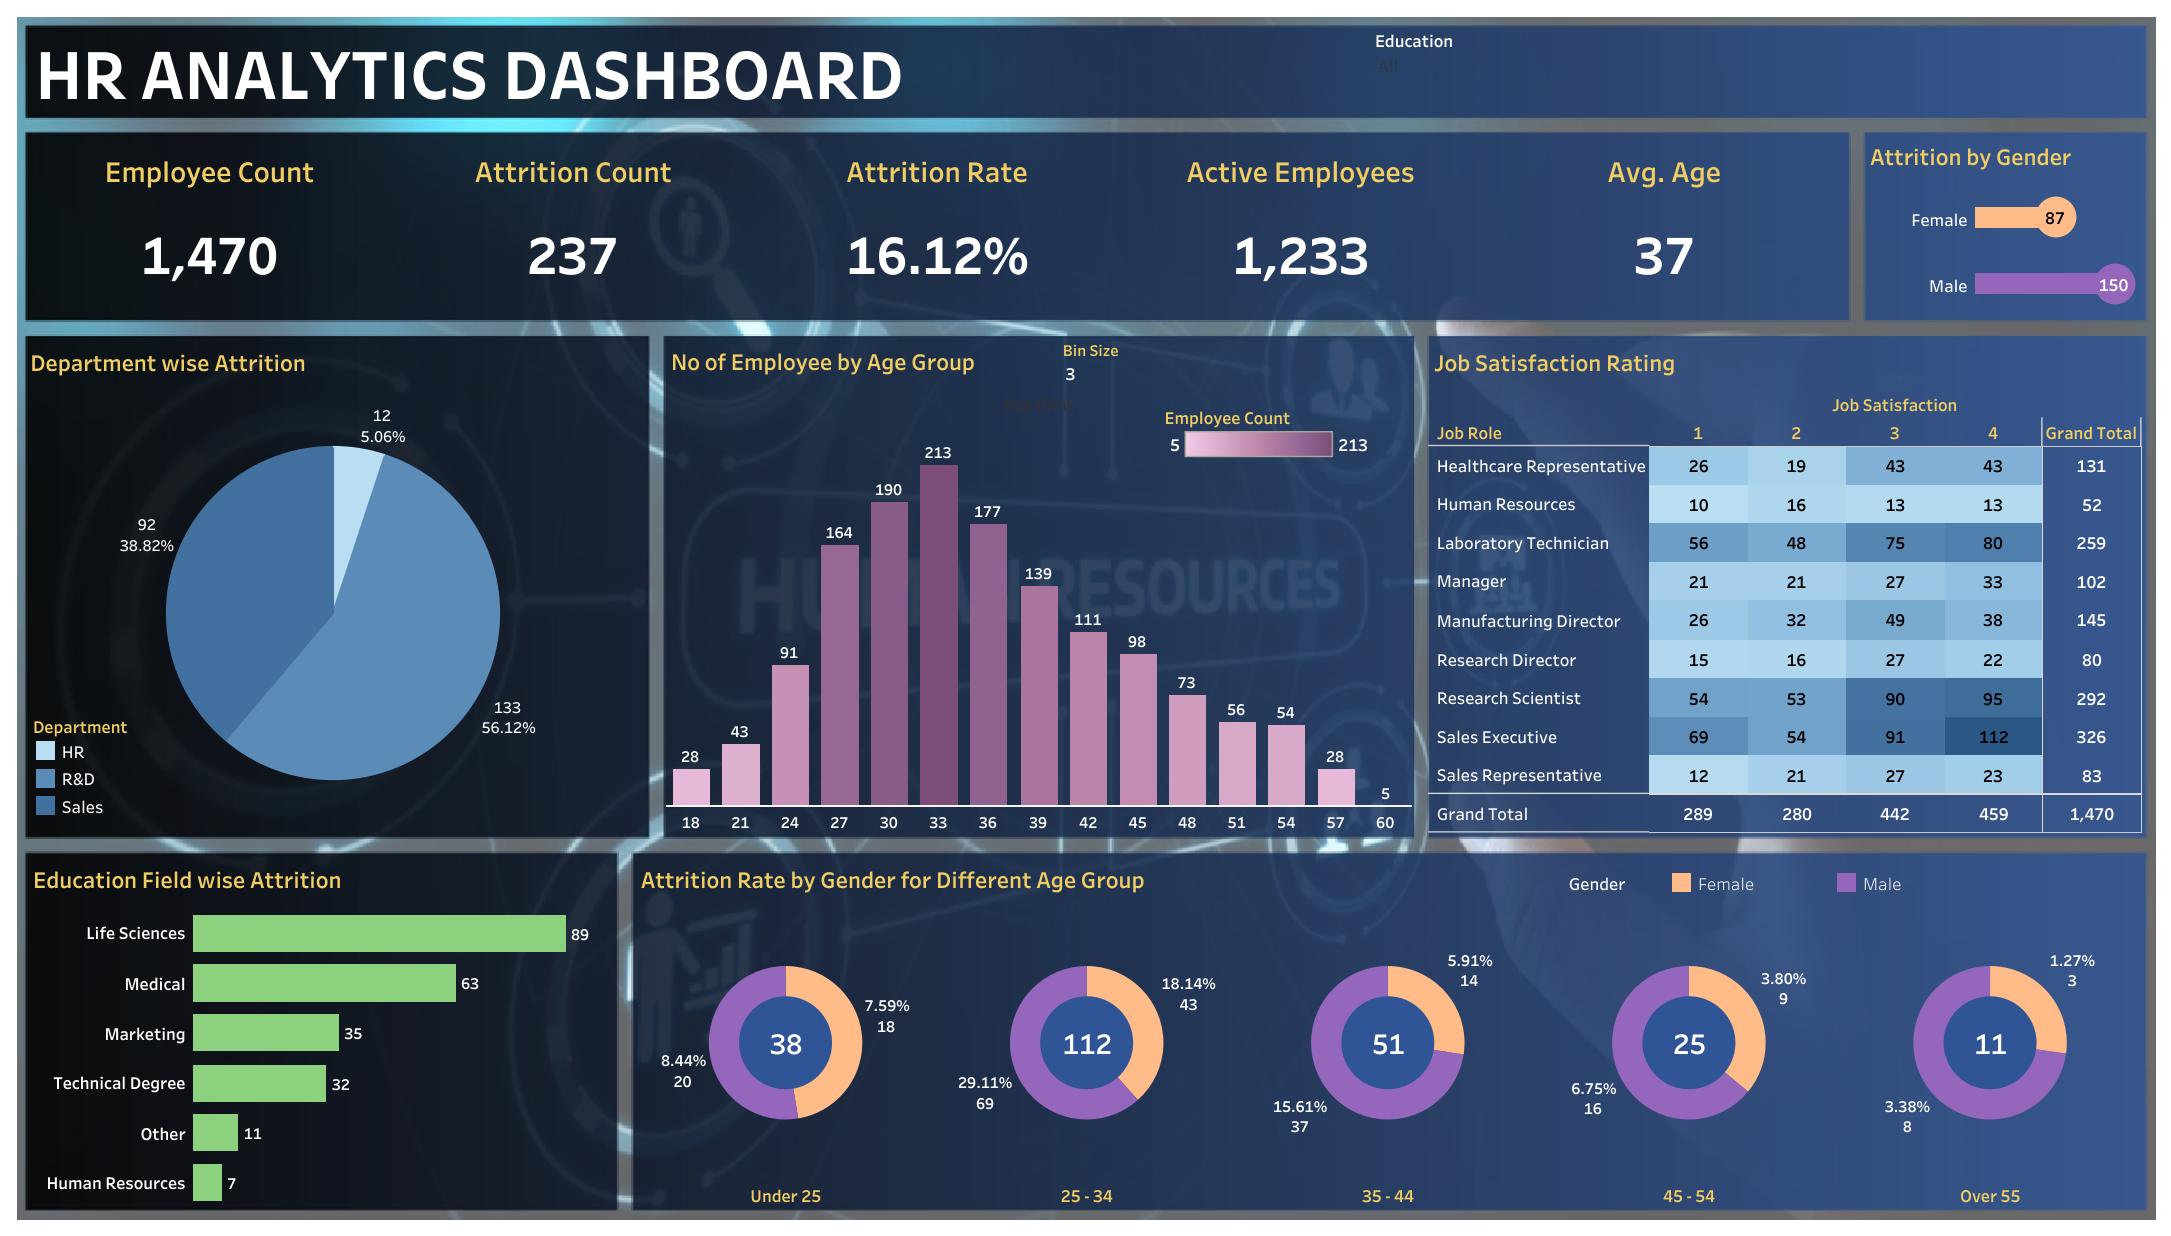

What the dashboard file says about the page in this screenshot:
{"tool":"tableau","page":{"name":"HR ANALYSTICS DASHBOARD","canvas":[1580,900],"ordinal":0},"visuals":[{"type":"image","param":"Image/HR background.pptx.png","box":[8,8,1564,884]},{"type":"filter","title":"Department wise Attrition","param":"[federated.0j1s8o115qc6bo1esjavy09geeld].[none:Education:nk]","box":[1000,19,214,65]},{"type":"text","box":[23,23,848,57]},{"type":"worksheet","title":"Attrition by Gender","mark":"Automatic","rows":["Gender"],"cols":["Calculation_1065382841183072256","Calculation_1065382841183072256"],"box":[1356,96,202,135]},{"type":"worksheet","title":"KPI","mark":"Automatic","box":[20,98,1323,132]},{"type":"worksheet","title":"No of Employee by Age Group","mark":"Automatic","rows":["Employee Count"],"cols":["Age (bin)"],"box":[484,245,542,361]},{"type":"worksheet","title":"Department wise Attrition","mark":"Pie","box":[18,246,448,361]},{"type":"parameter","param":"[Parameters].[Parameter 1]","box":[773,246,251,39]},{"type":"worksheet","title":"Job Satisfaction Rating","mark":"Square","rows":["Job Role"],"cols":["Job Satisfaction"],"box":[1039,246,519,360]},{"type":"legend","title":"No of Employee by Age Group","param":"[federated.0j1s8o115qc6bo1esjavy09geeld].[sum:Employee Count:qk]","box":[847,290,153,63]},{"type":"legend","title":"Department wise Attrition","param":"[federated.0j1s8o115qc6bo1esjavy09geeld].[none:Department:nk]","box":[23,517,102,88]},{"type":"worksheet","title":"Education Field wise Attrition","mark":"Automatic","rows":["Education Field"],"cols":["Calculation_1065382841183072256"],"box":[20,622,427,256]},{"type":"worksheet","title":"Attrition Rate by Gender for Different Age Group","mark":"Pie","rows":["Calculation_959829726211858433","Calculation_959829726211858433"],"cols":["CF_age band"],"box":[462,622,1095,256]},{"type":"legend","title":"Attrition Rate by Gender for Different Age Group","param":"[federated.0j1s8o115qc6bo1esjavy09geeld].[none:Gender:nk]","box":[1141,632,407,32]}]}

Visuals, with their boxes in screenshot pixels (x1, y1, x2, y2), scaled from the page's 1580x900 canvas onto the 2171x1236 screenshot:
image: [11, 11, 2160, 1225]
"Department wise Attrition" filter: [1374, 26, 1668, 115]
text: [32, 32, 1197, 110]
"Attrition by Gender" worksheet: [1863, 132, 2141, 317]
"KPI" worksheet: [27, 135, 1845, 316]
"No of Employee by Age Group" worksheet: [665, 336, 1410, 832]
"Department wise Attrition" worksheet (Pie marks): [25, 338, 640, 834]
parameter: [1062, 338, 1407, 391]
"Job Satisfaction Rating" worksheet (Square marks): [1428, 338, 2141, 832]
"No of Employee by Age Group" legend: [1164, 398, 1374, 485]
"Department wise Attrition" legend: [32, 710, 172, 831]
"Education Field wise Attrition" worksheet: [27, 854, 614, 1206]
"Attrition Rate by Gender for Different Age Group" worksheet (Pie marks): [635, 854, 2139, 1206]
"Attrition Rate by Gender for Different Age Group" legend: [1568, 868, 2127, 912]
